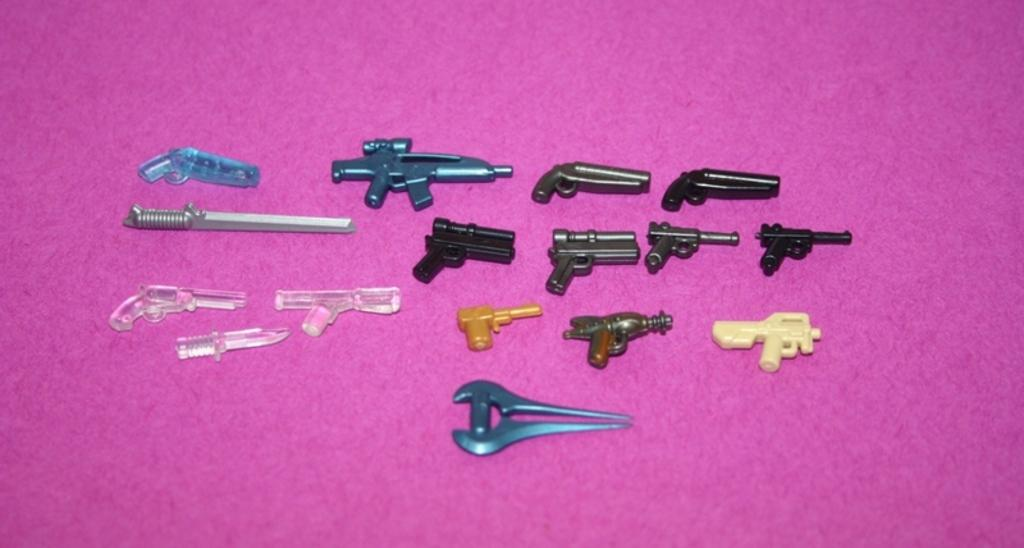Rifle: (329, 134, 517, 213)
